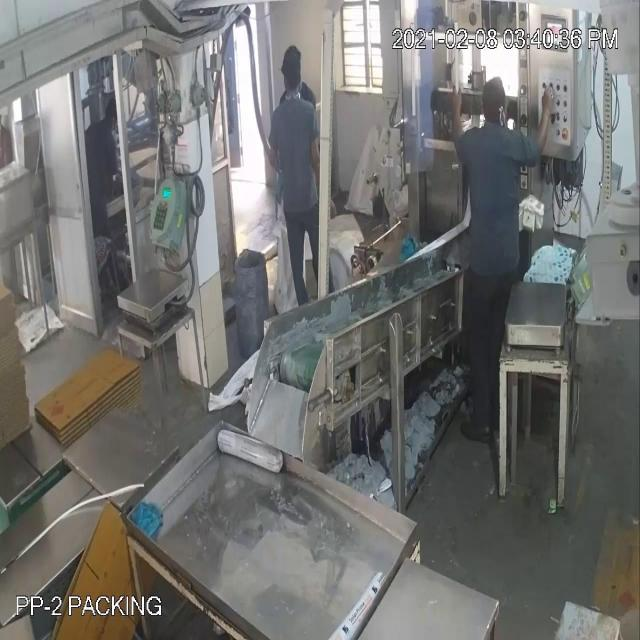No_Gloves: (28, 92, 548, 122)
